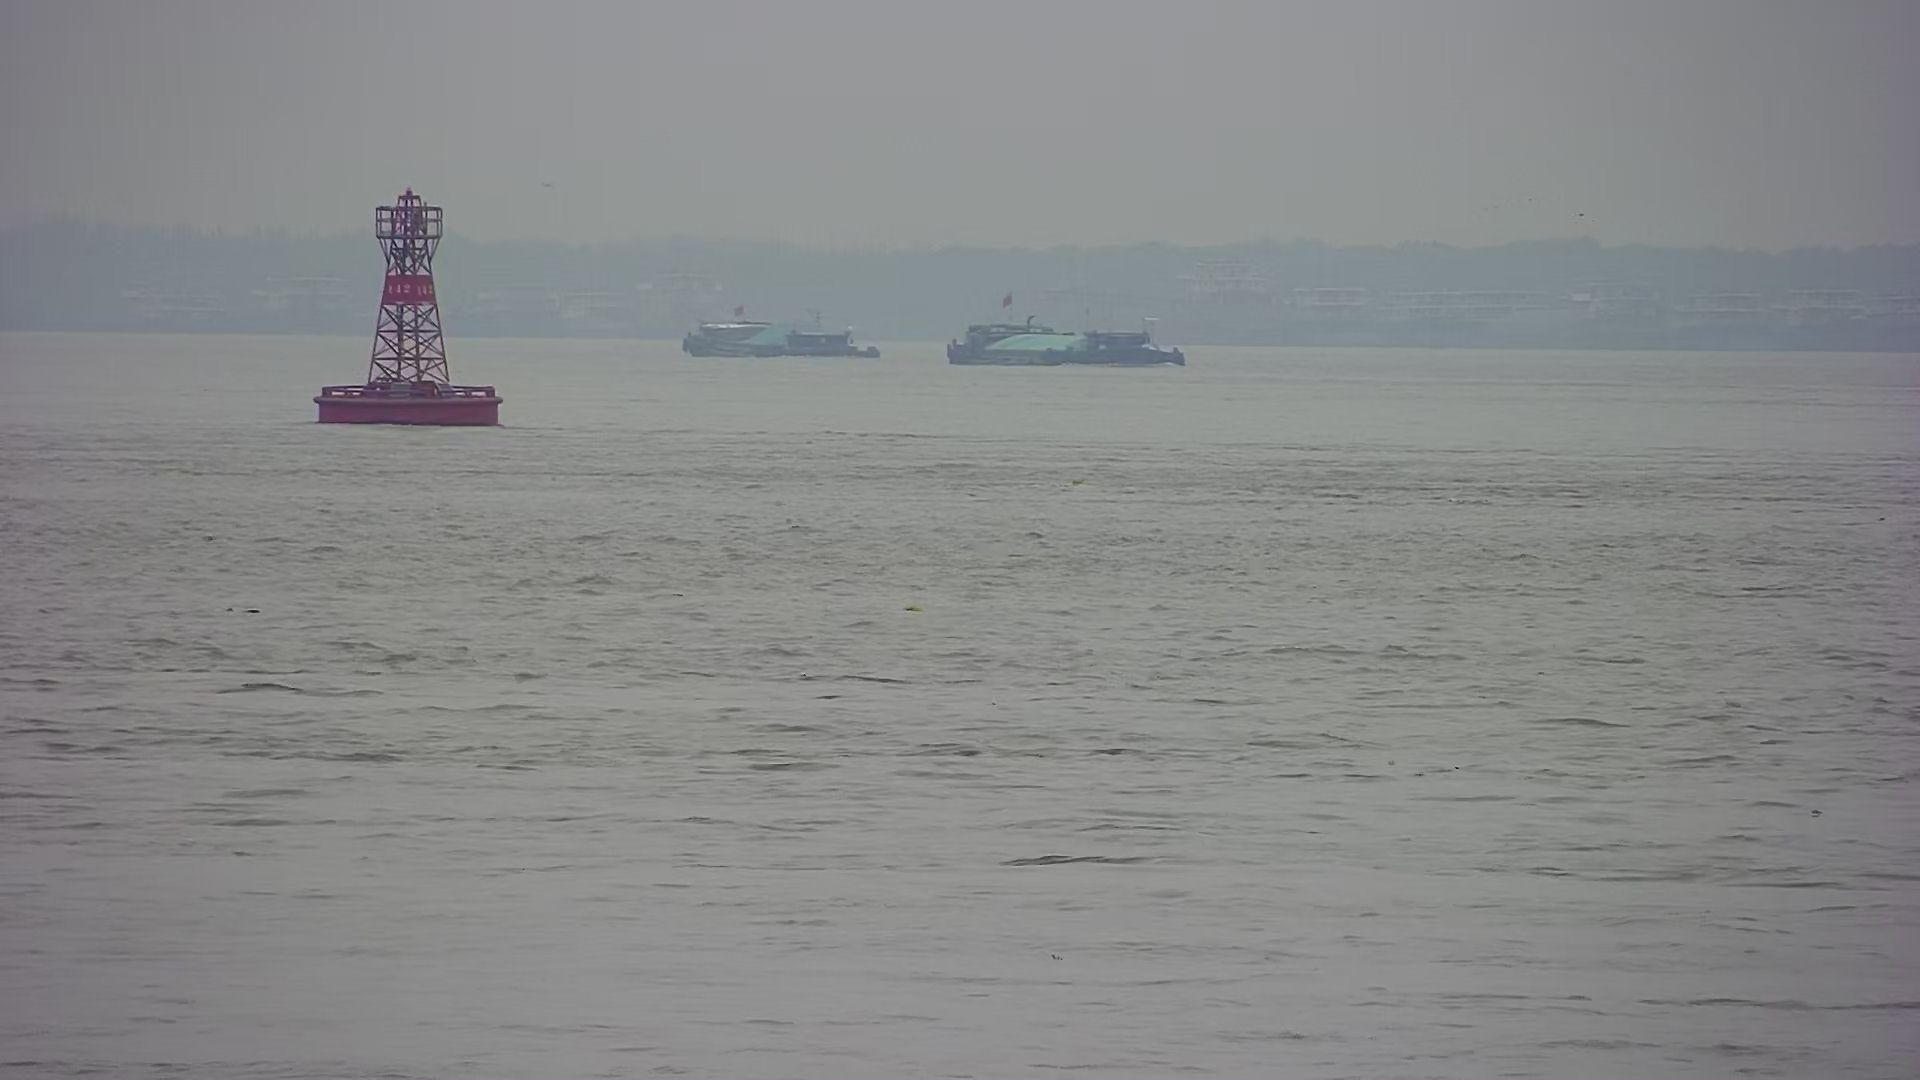platform: (311, 185, 504, 430)
ship: (944, 316, 1188, 375), (679, 309, 881, 367)
